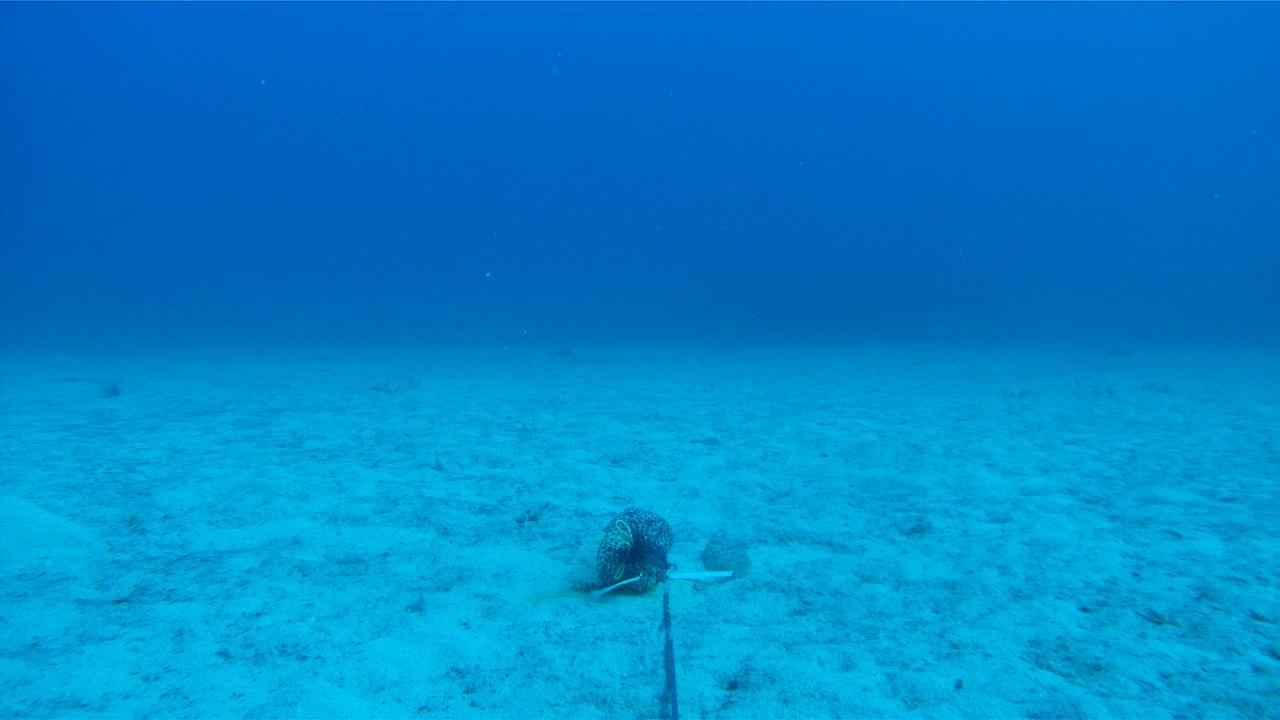bothus: (696, 529, 754, 584)
